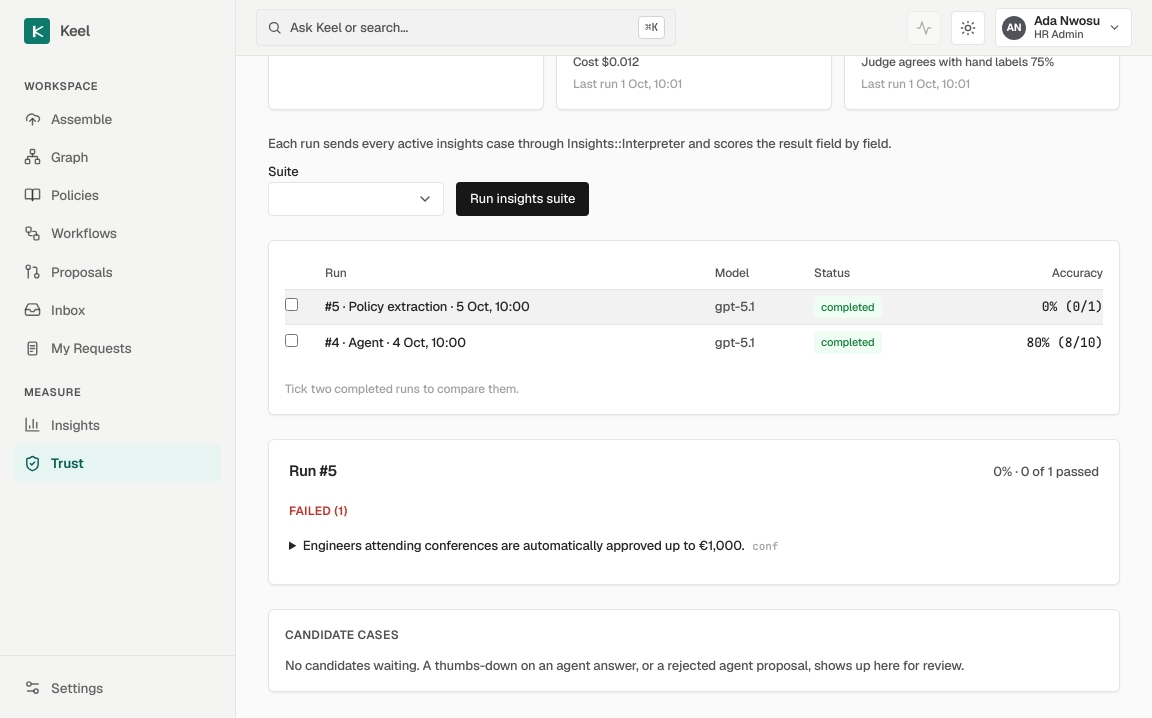
Test: /trust › shows stability, judge and cost on the scoreboard, and what each failing probe got wrong
(page scrolled)
Expected: the list item "Stability 86.7% over 5 compiles" is shown, [573, 34, 742, 50]
Expected: the list item "Cost $0.012" is shown, [573, 54, 639, 70]
Click the text "Engineers attending conferences". click: (524,546)
box: [303, 537, 744, 554]
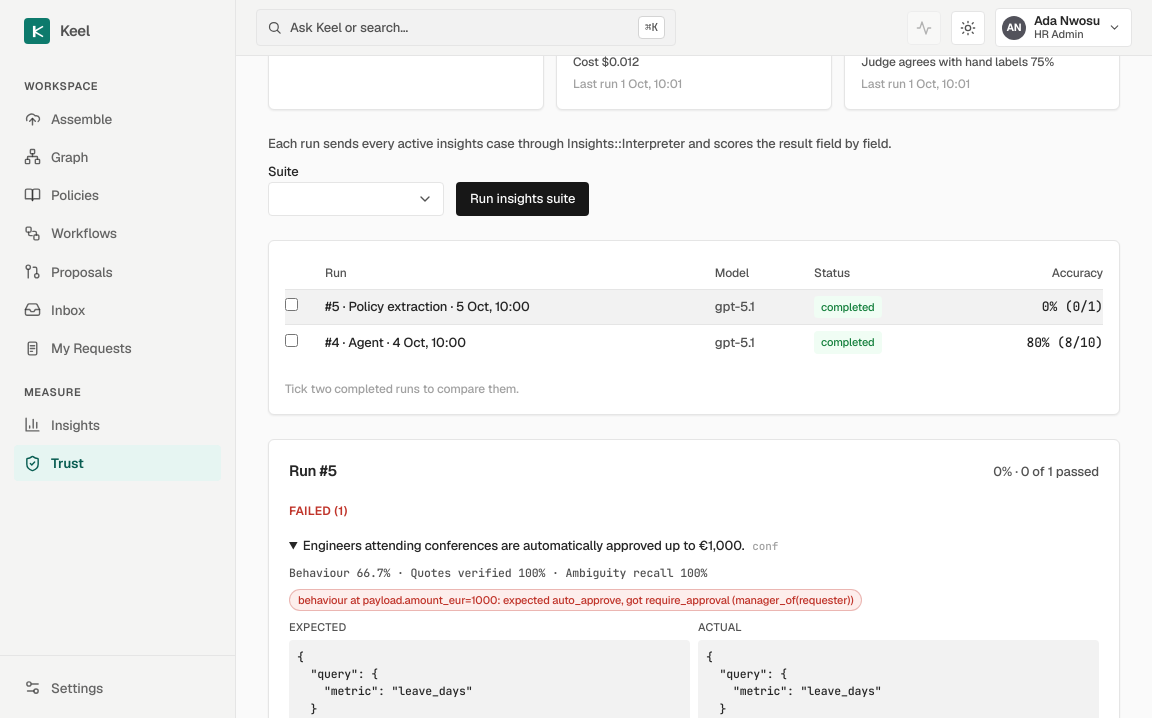
Expected: the text "Behaviour 66.7% · Quotes verified 100% · Ambiguity recall 100%" is shown, [289, 564, 707, 580]
Expected: the list item "behaviour at payload.amount_eur=1000: expected auto_approve, got require_approval (manager_of(requester))" is shown, [298, 593, 853, 607]
